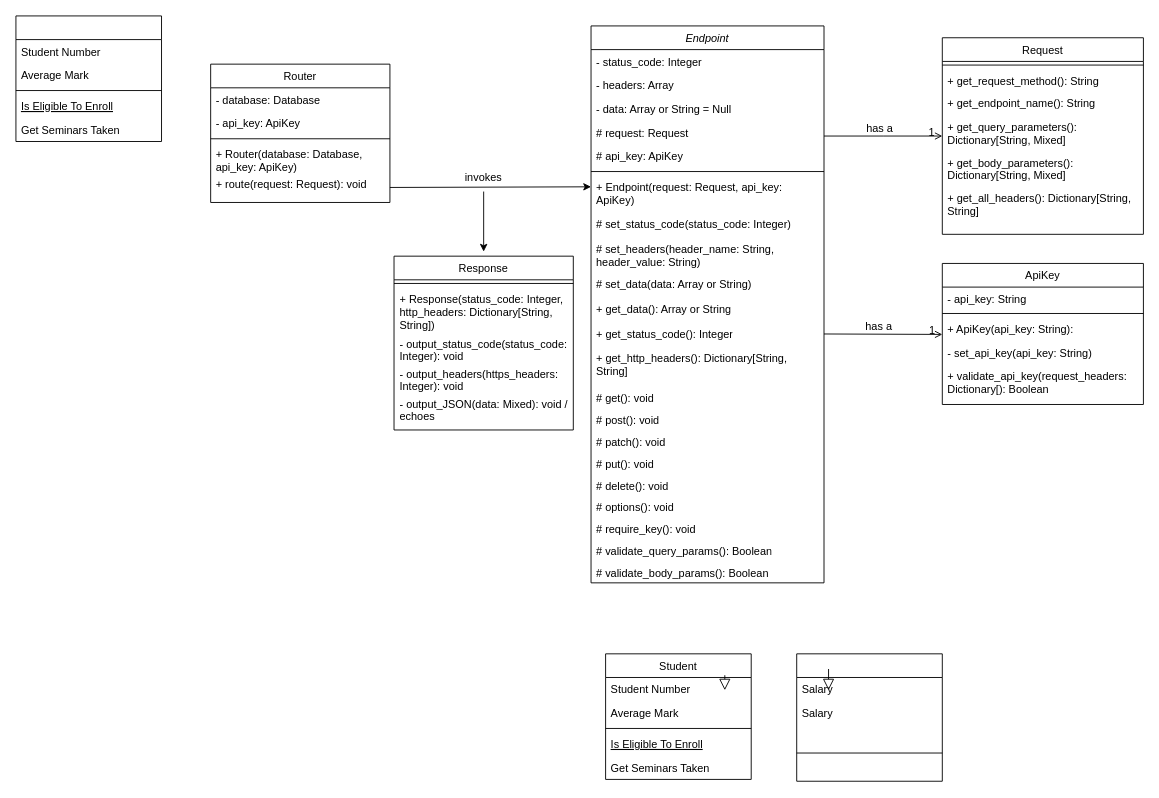
Some shapes in this 1159 by 798 pixel diagram are drawn without their labels. The box of each missing label's shape, as (x1, y1, x2, y2) in pixels:
api.php: (15, 15, 162, 142)
Professor: (796, 653, 942, 781)
